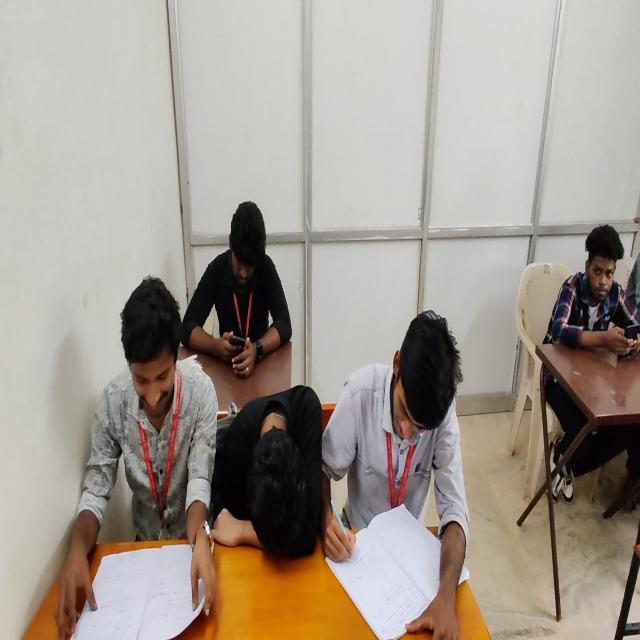reading: (51, 270, 220, 640)
sleeping: (211, 368, 327, 574)
using_mobile: (180, 191, 308, 378), (538, 214, 640, 384)
writing: (322, 302, 471, 640)
